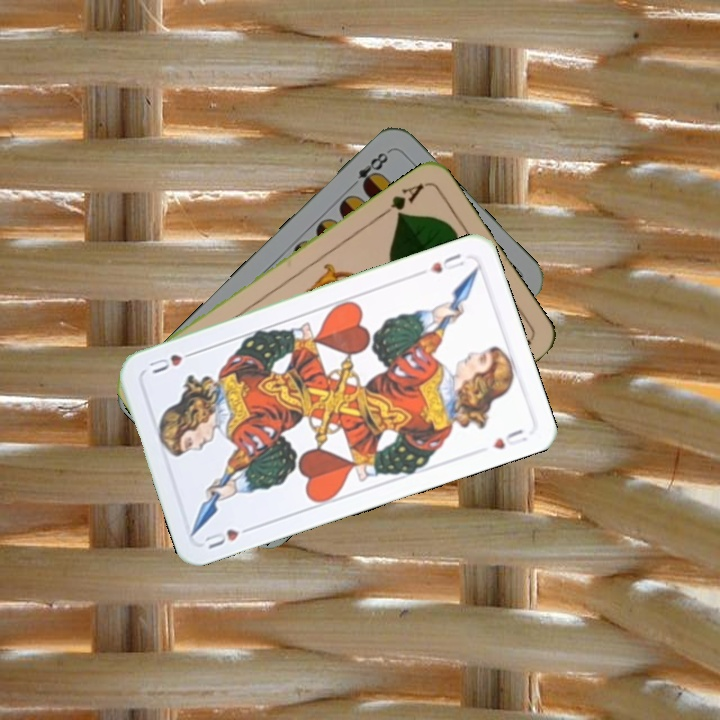E8: (345, 148, 391, 193)
GA: (376, 179, 427, 220)
HU: (200, 522, 257, 552), (425, 249, 467, 276)
